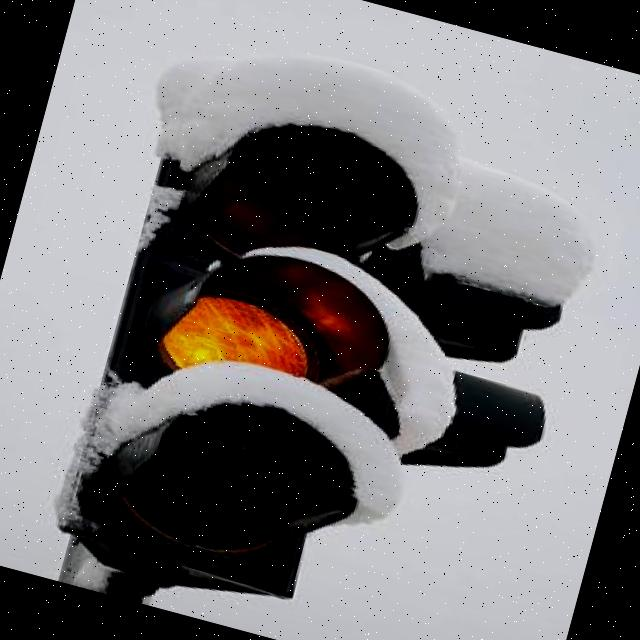yellow_light: (65, 130, 399, 600)
